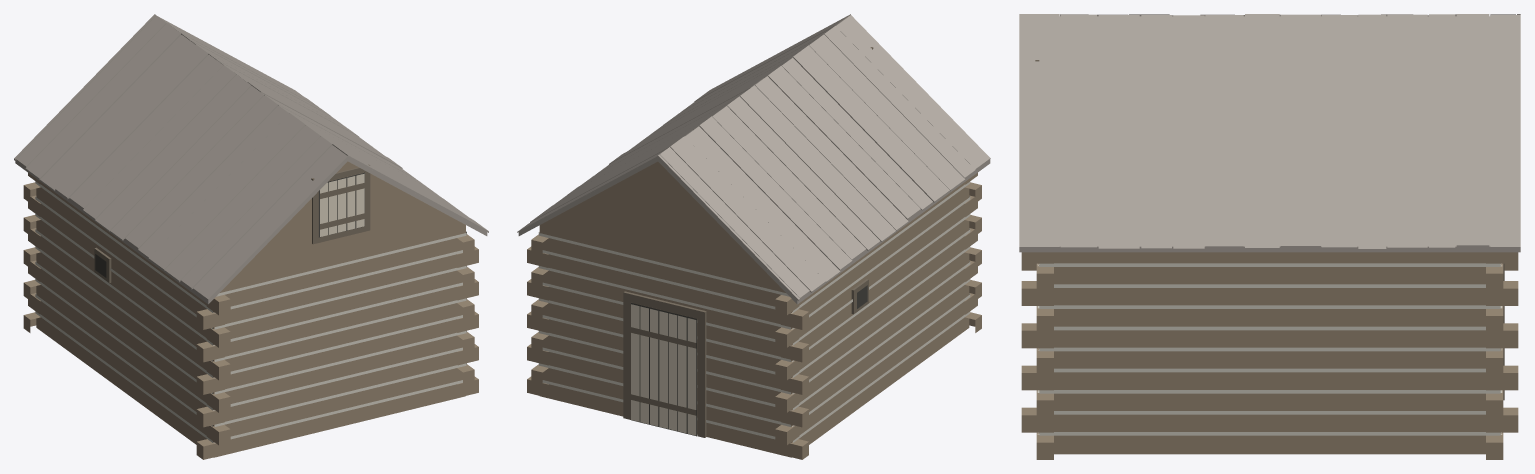
The model's file is recon_1835_blk_lake_franklin_a1_03__inferred_1835.glb.
3 renders of one model, left to right at view 1: azimuth 30°, elevation 25°; view 2: azimuth 150°, elevation 25°; view 3: azimuth 270°, elevation 25°, orthographic. The views are drawn at different scales.
Parts seen in each view (by area): view 1: recon_1835_blk_lake_franklin_a1_03__inferred_1835; view 2: recon_1835_blk_lake_franklin_a1_03__inferred_1835; view 3: recon_1835_blk_lake_franklin_a1_03__inferred_1835.
Boxes of the visible parts, x1,y1,x2,y2 form: recon_1835_blk_lake_franklin_a1_03__inferred_1835: (14,14,488,459); recon_1835_blk_lake_franklin_a1_03__inferred_1835: (517,14,990,459); recon_1835_blk_lake_franklin_a1_03__inferred_1835: (1019,14,1520,459).
Bounding box in the file's own units: 5.81 × 5.43 × 6.84.
